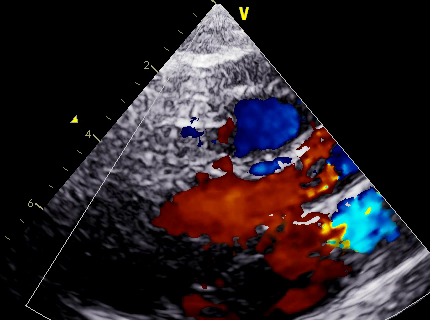AR: (203, 162, 319, 223)
